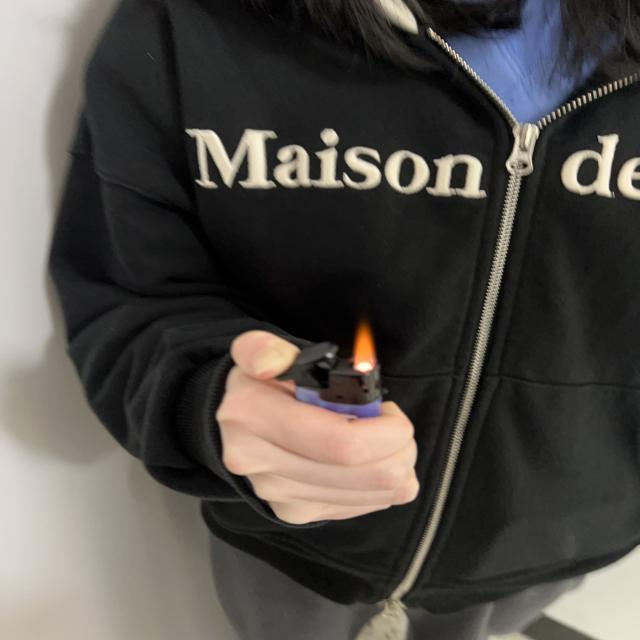fire: (352, 317, 378, 373)
